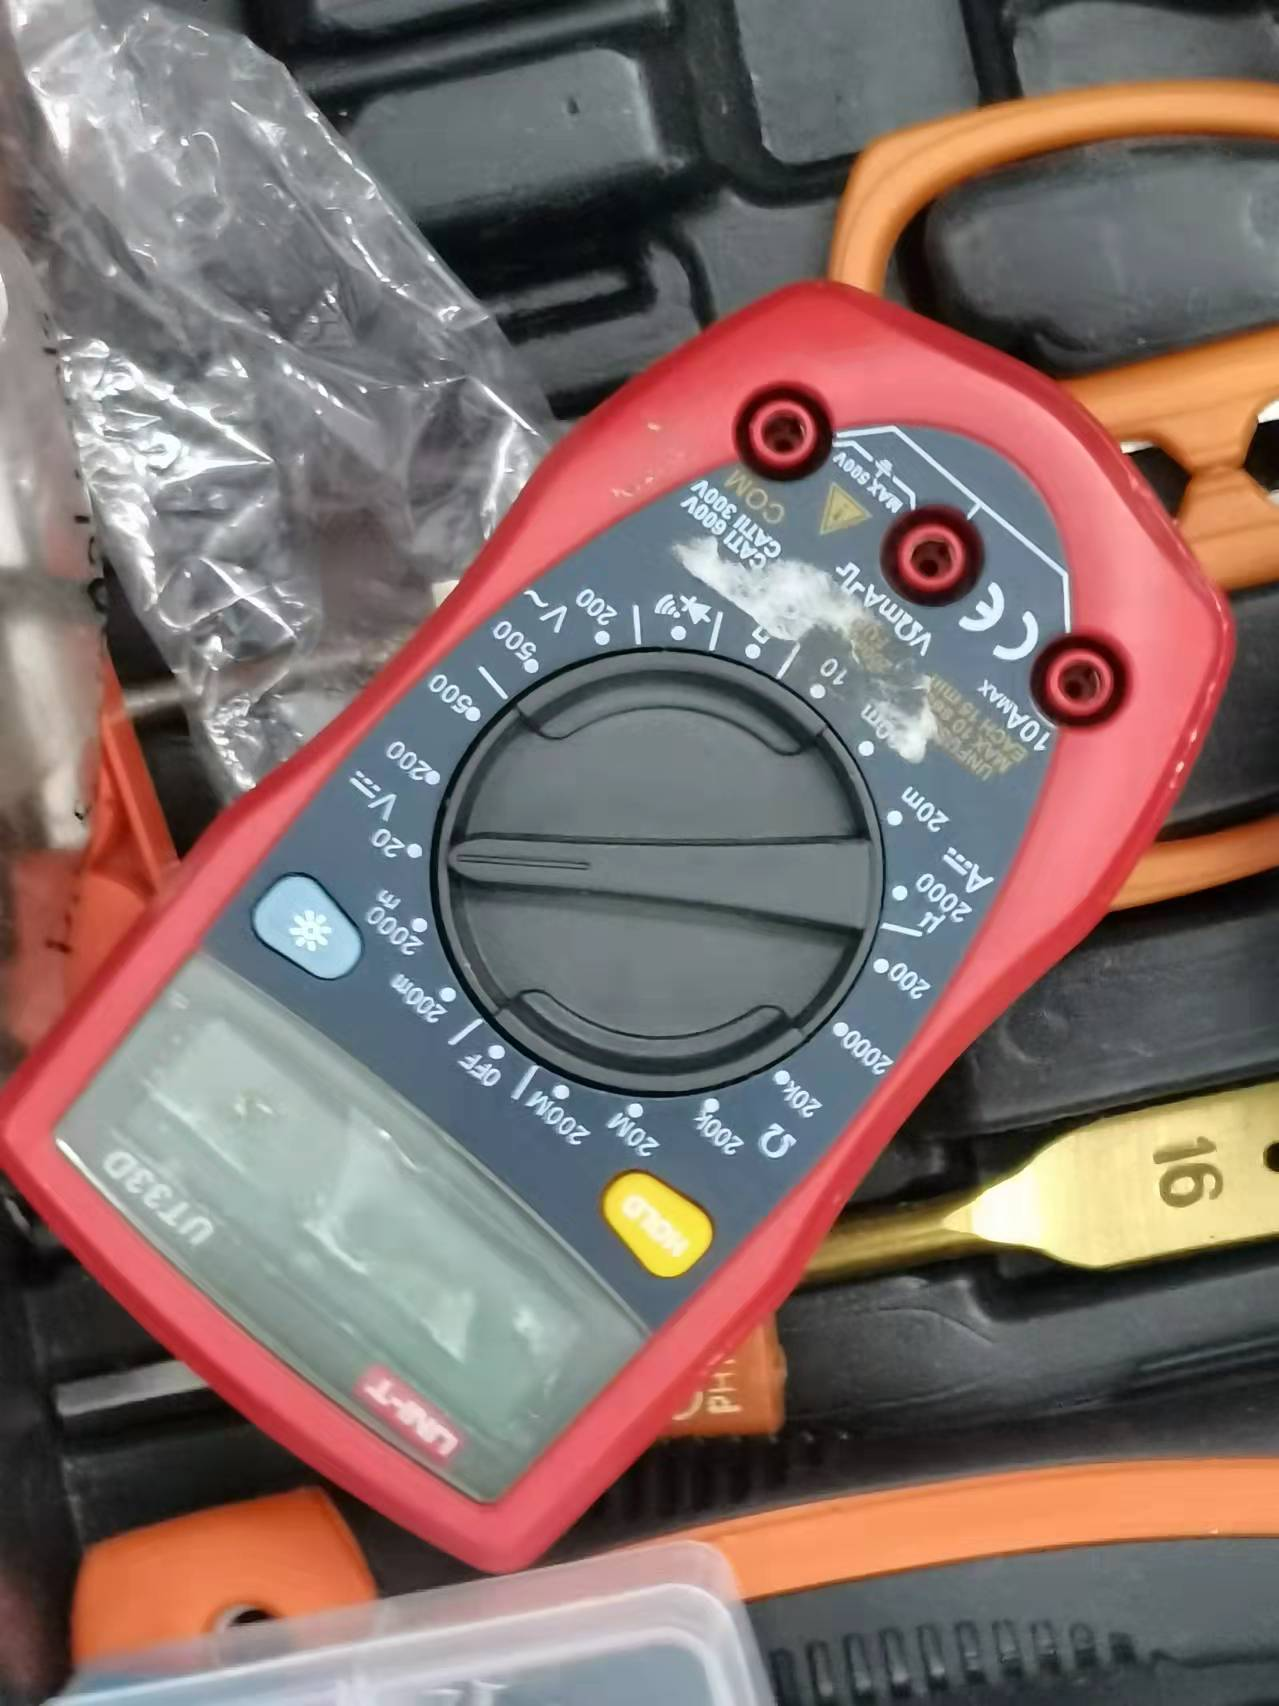Multimeter: (1, 271, 1235, 1573)
